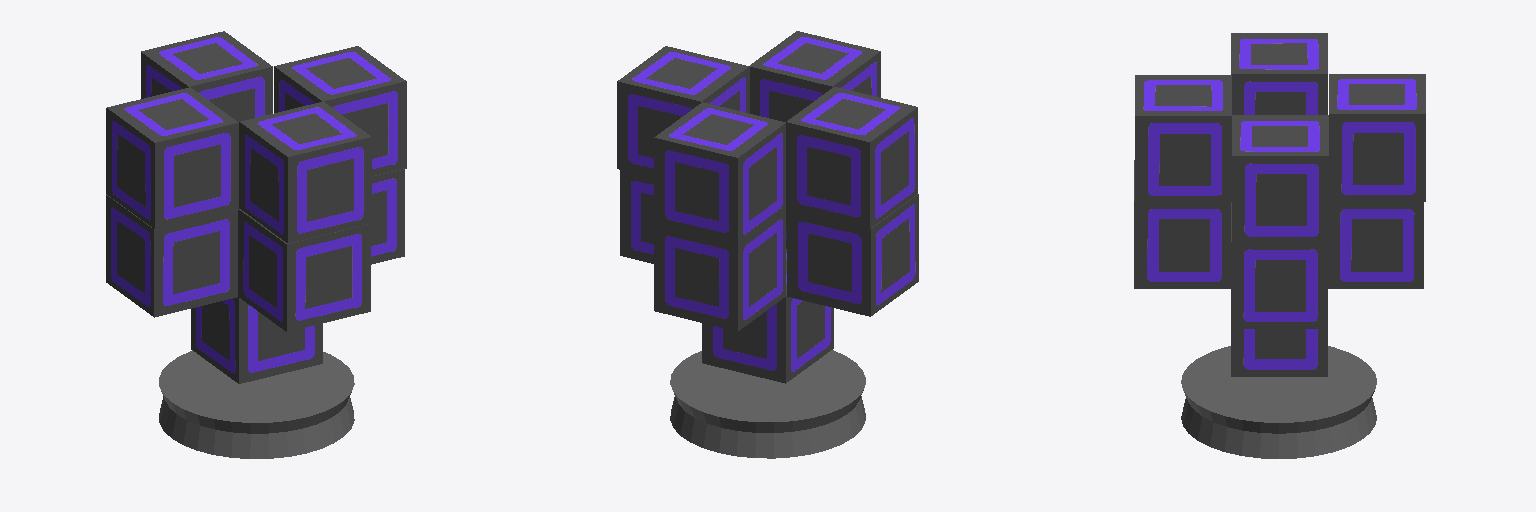
The picture shows the model from 3 angles: view 1: azimuth 30°, elevation 25°; view 2: azimuth 150°, elevation 25°; view 3: azimuth 270°, elevation 25°; orthographic projection.
Parts seen in each view (by area): view 1: Cylinder, Cube.005, Cube.008, Cube.004, Cube.002, Cube.007, Cube.006, Cube, Cube.001; view 2: Cylinder, Cube.006, Cube.005, Cube.002, Cube.003, Cube.007, Cube.008, Cube, Cube.001; view 3: Cylinder, Cube.007, Cube.008, Cube.006, Cube.003, Cube.004, Cube.001, Cube.005, Cube.
Part boxes in pixels (left/top/right/bottom): Cylinder: left=159, top=350, right=354, bottom=458; Cube.005: left=106, top=87, right=238, bottom=228; Cube.008: left=239, top=101, right=371, bottom=243; Cube.004: left=238, top=209, right=370, bottom=331; Cube.002: left=106, top=194, right=237, bottom=317; Cube.007: left=274, top=46, right=406, bottom=175; Cube.006: left=141, top=31, right=272, bottom=121; Cube: left=191, top=297, right=322, bottom=383; Cube.001: left=371, top=168, right=404, bottom=264; Cylinder: left=670, top=350, right=865, bottom=458; Cube.006: left=654, top=102, right=785, bottom=245; Cube.005: left=786, top=87, right=917, bottom=229; Cube.002: left=787, top=194, right=918, bottom=316; Cube.003: left=654, top=211, right=785, bottom=331; Cube.007: left=617, top=46, right=749, bottom=177; Cube.008: left=750, top=31, right=880, bottom=121; Cube: left=702, top=249, right=833, bottom=383; Cube.001: left=620, top=170, right=653, bottom=263; Cylinder: left=1181, top=346, right=1376, bottom=458; Cube.007: left=1232, top=115, right=1328, bottom=243; Cube.008: left=1135, top=75, right=1231, bottom=202; Cube.006: left=1329, top=74, right=1425, bottom=201; Cube.003: left=1328, top=201, right=1423, bottom=288; Cube.004: left=1134, top=160, right=1230, bottom=288; Cube.001: left=1231, top=202, right=1327, bottom=328; Cube.005: left=1231, top=33, right=1327, bottom=114; Cube: left=1231, top=329, right=1327, bottom=376.
Size of the model in its own units: 1.9 by 2.33 by 1.9.
Materials: 11 (2 with a texture image).